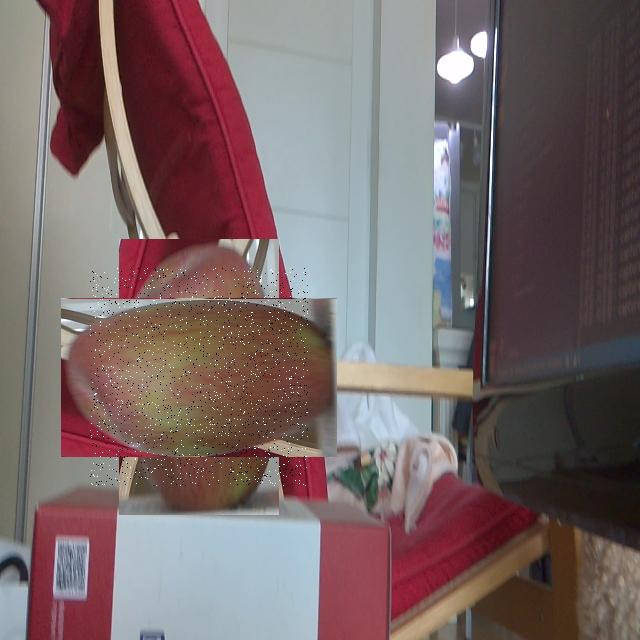apple: (90, 268, 308, 486)
